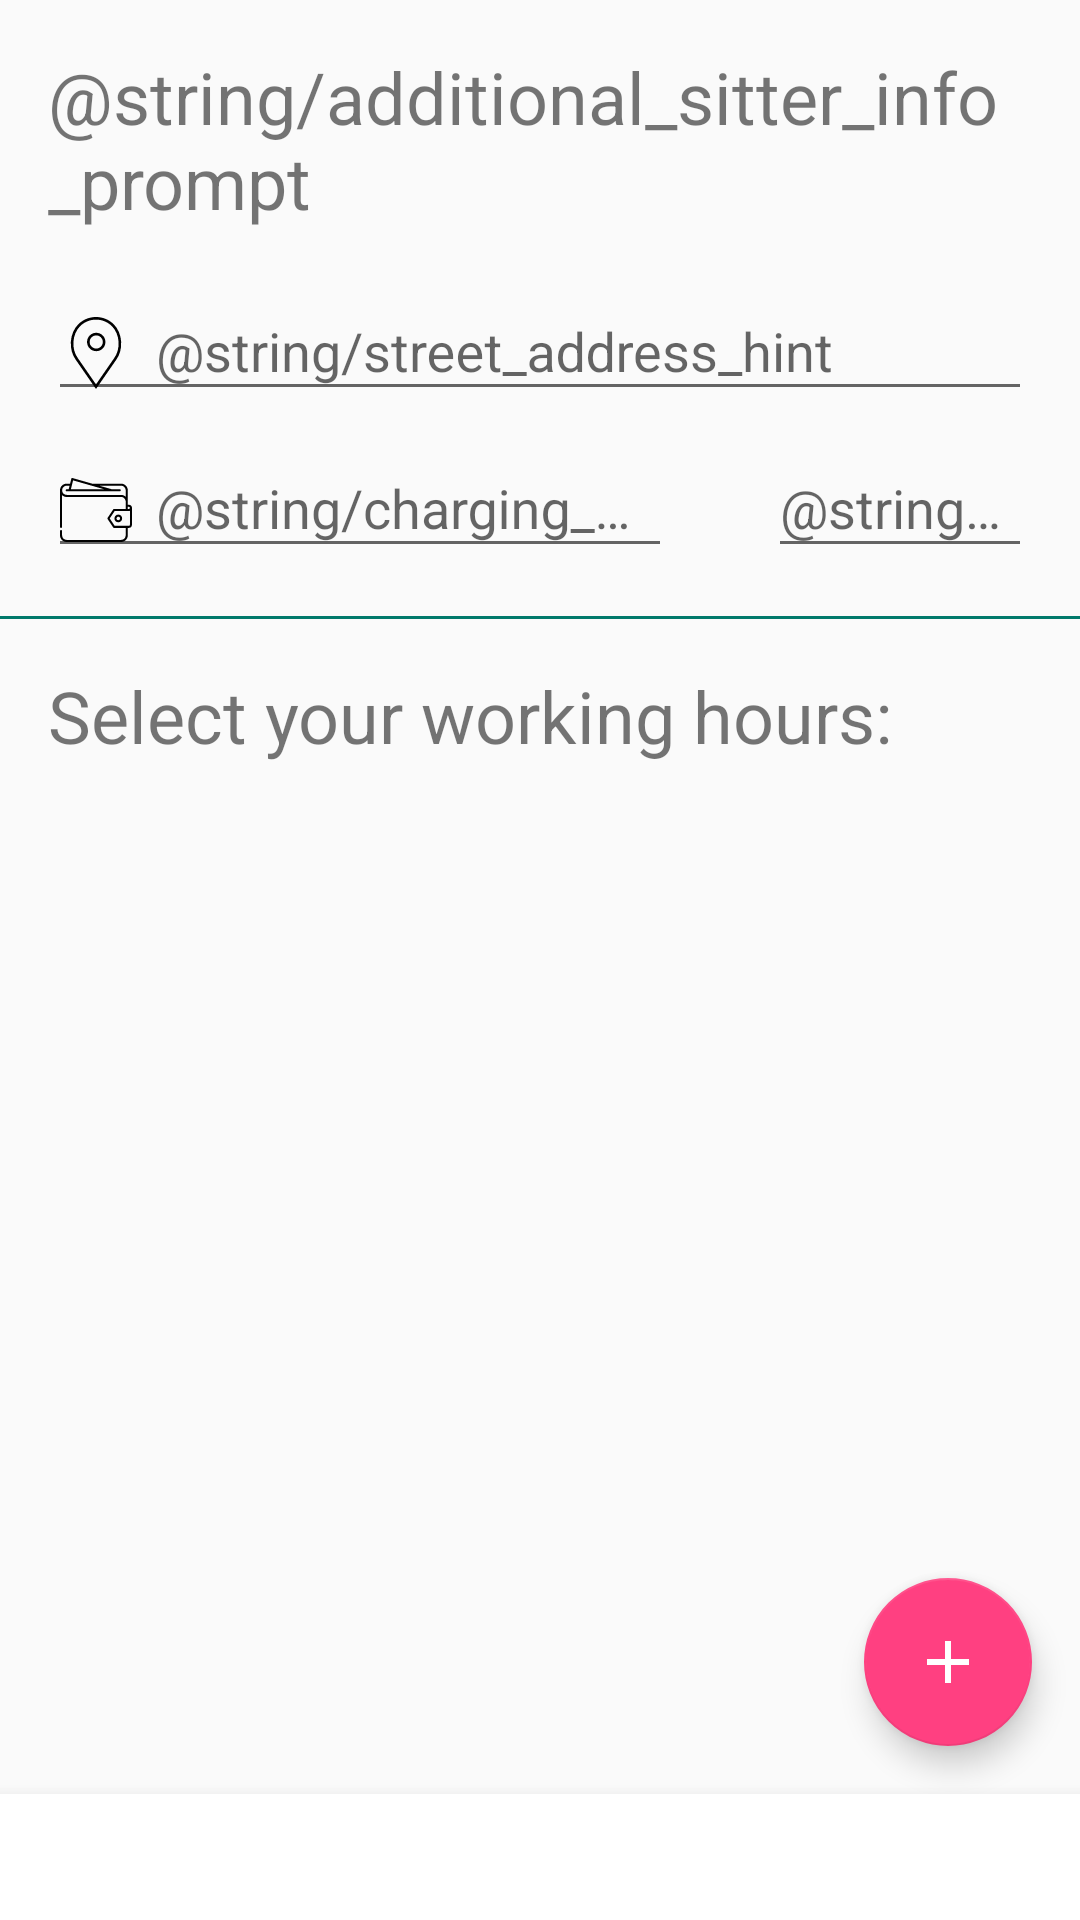

Icons on this 1080w x 1920h Android screen, each with its box as (x1, y1, x2, y2):
add: (864, 1578, 1032, 1746)
